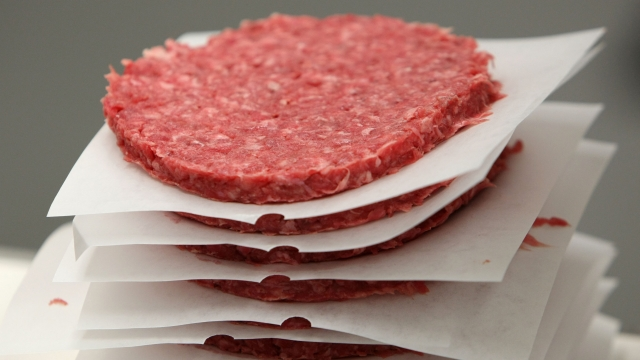ground_beef: (125, 14, 474, 179)
